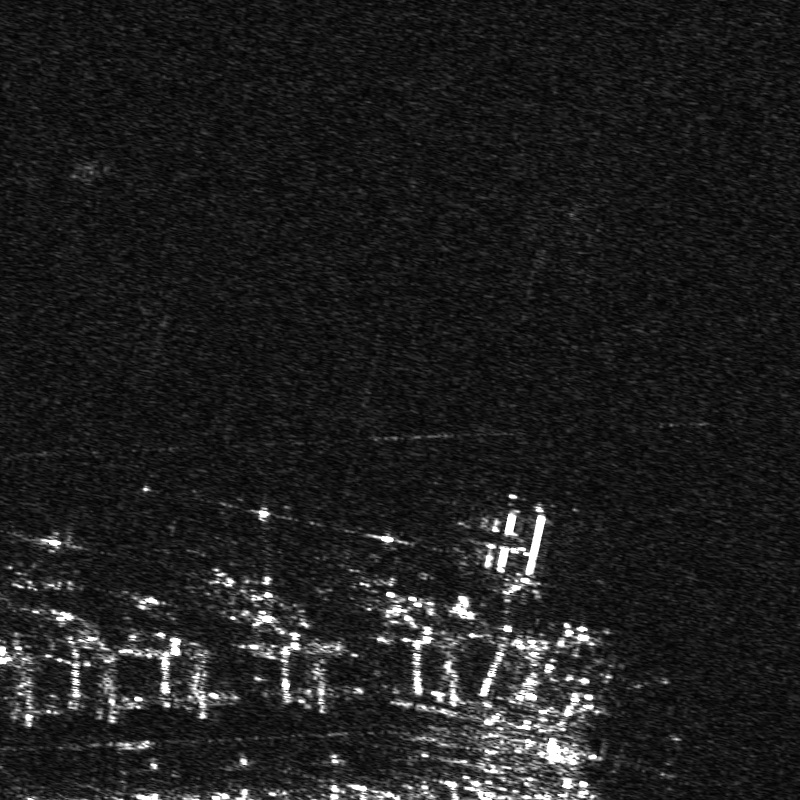A220: (1, 517, 96, 605)
A320/321: (183, 491, 296, 606), (327, 517, 431, 605)
